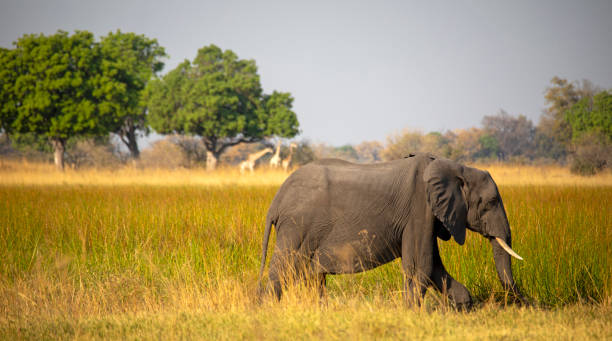africanelephant: (429, 167, 526, 271)
